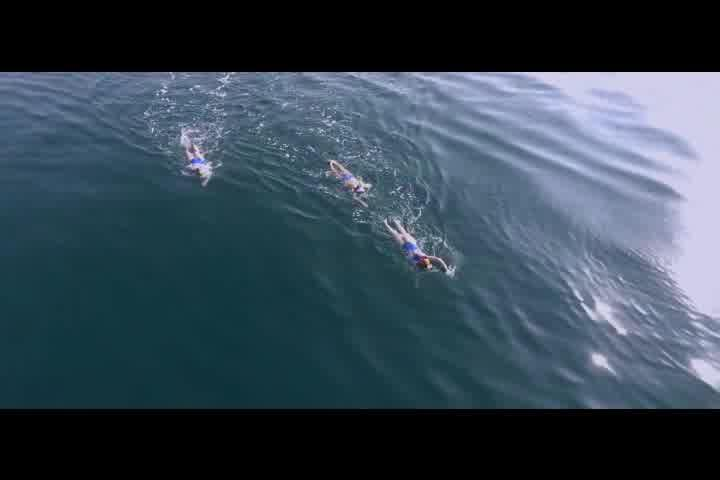human: (383, 212, 451, 284), (324, 153, 374, 206), (173, 139, 217, 192)
